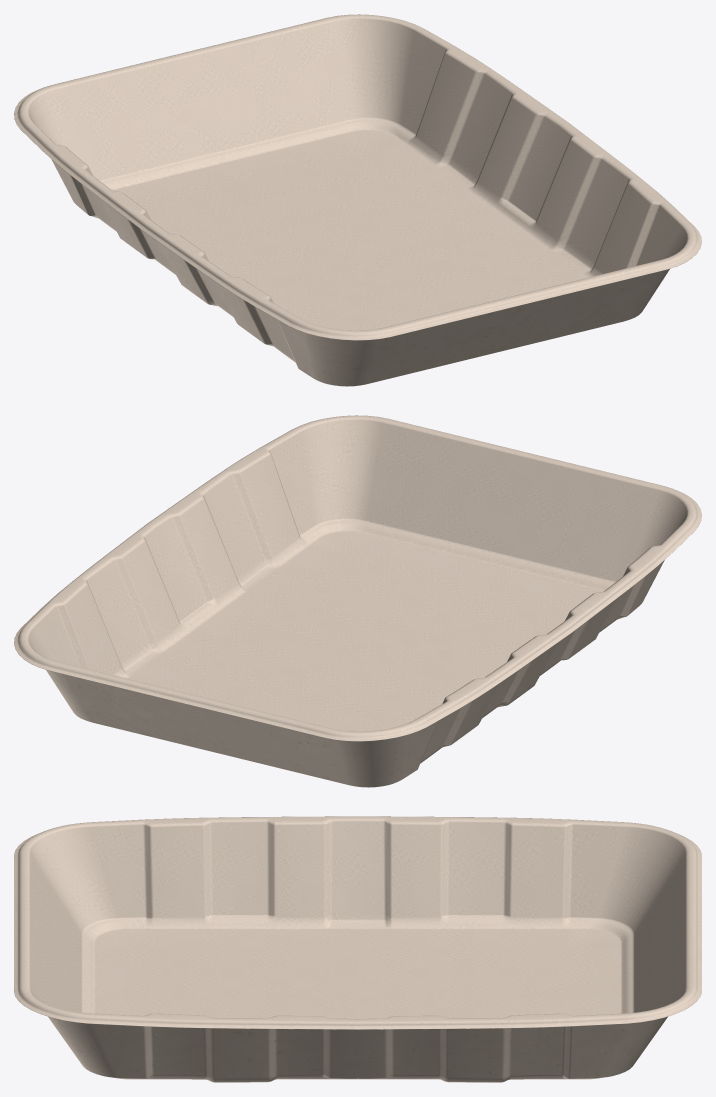
File: box-14-clean-transformed.glb
3 views of the same model, one above another, from view 1: azimuth 30°, elevation 25°; view 2: azimuth 150°, elevation 25°; view 3: azimuth 270°, elevation 25° (orthographic).
Parts seen in each view (by area): view 1: Box_14; view 2: Box_14; view 3: Box_14.
Part boxes in pixels (box(x1,y1,x2,y2)): Box_14: box(14, 14, 701, 386); Box_14: box(14, 415, 701, 787); Box_14: box(14, 816, 701, 1082).
Size of the model in its own units: 0.2102 by 0.0398 by 0.2902.
1 material, 1 textured.
